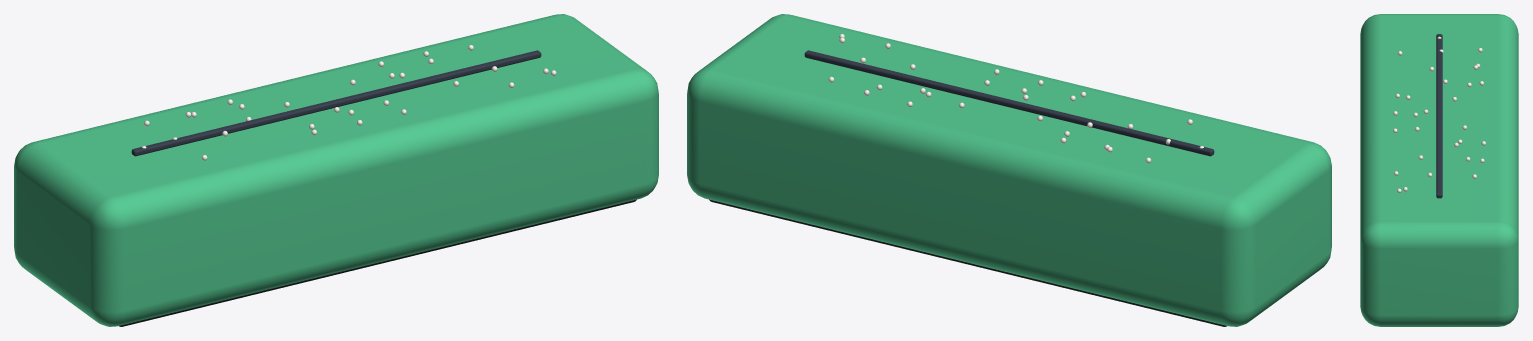
File: Schaumstoffblock_Balken_Gruen_3D.glb
3 renders of one model, left to right at view 1: azimuth 30°, elevation 25°; view 2: azimuth 150°, elevation 25°; view 3: azimuth 270°, elevation 25°, orthographic. The views are drawn at different scales.
Parts seen in each view (by area): view 1: green individual long small foam beam, green individual long small foam beam stitched top center se, green individual long small foam beam black grip underside; view 2: green individual long small foam beam, green individual long small foam beam stitched top center se, green individual long small foam beam black grip underside; view 3: green individual long small foam beam, green individual long small foam beam stitched top center se.
Boxes of the visible parts, x1=… form: green individual long small foam beam: x1=14, y1=14, x2=658, y2=326; green individual long small foam beam stitched top center se: x1=131, y1=50, x2=541, y2=156; green individual long small foam beam black grip underside: x1=119, y1=199, x2=636, y2=326; green individual long small foam beam: x1=687, y1=14, x2=1331, y2=326; green individual long small foam beam stitched top center se: x1=804, y1=50, x2=1214, y2=156; green individual long small foam beam black grip underside: x1=709, y1=199, x2=1226, y2=326; green individual long small foam beam: x1=1360, y1=14, x2=1518, y2=326; green individual long small foam beam stitched top center se: x1=1436, y1=34, x2=1442, y2=198.
Size of the model in its own units: 1.2 by 0.2745 by 0.36.
